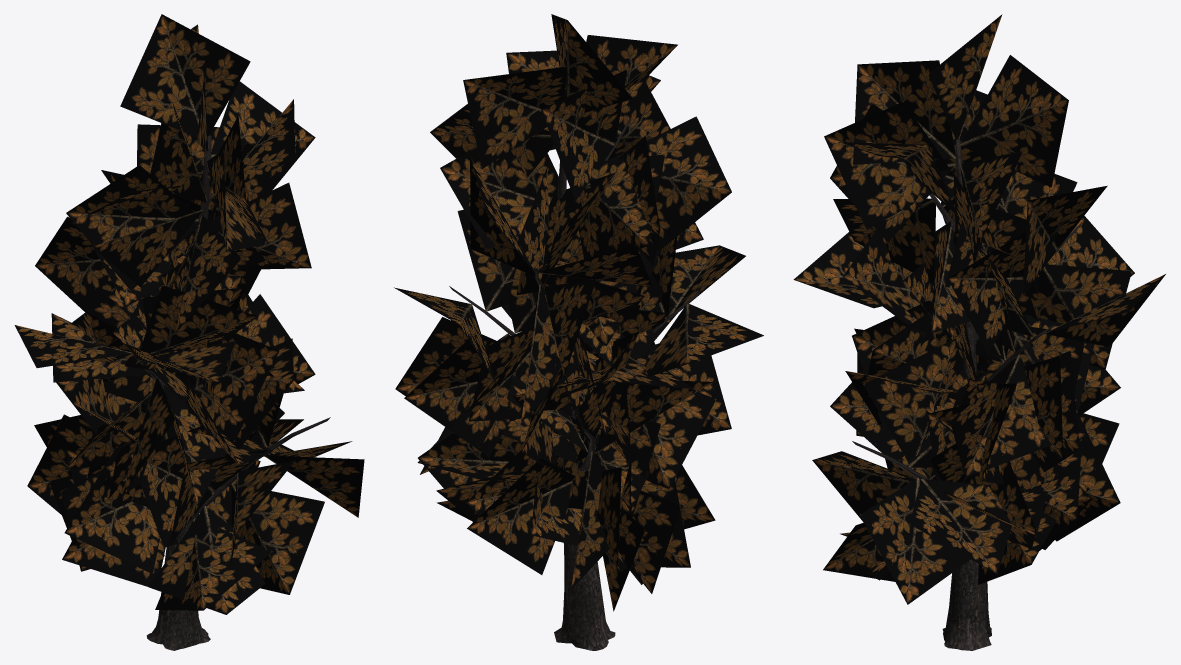
Rendered from tree_6.obj.
The picture shows the model from 3 angles, left to right: view 1: azimuth 30°, elevation 25°; view 2: azimuth 150°, elevation 25°; view 3: azimuth 270°, elevation 25°; orthographic projection. The views are drawn at different scales.
Visible parts, largest first — view 1: tree_6_leaves, tree_6; view 2: tree_6_leaves, tree_6; view 3: tree_6_leaves, tree_6.
Part boxes in pixels (<box>): tree_6_leaves: <box>14,14,364,614</box>; tree_6: <box>128,135,330,650</box>; tree_6_leaves: <box>394,14,763,611</box>; tree_6: <box>449,114,701,650</box>; tree_6_leaves: <box>793,14,1165,604</box>; tree_6: <box>852,139,1081,650</box>.
Size of the model in its own units: 3.2 by 6.06 by 3.29.
